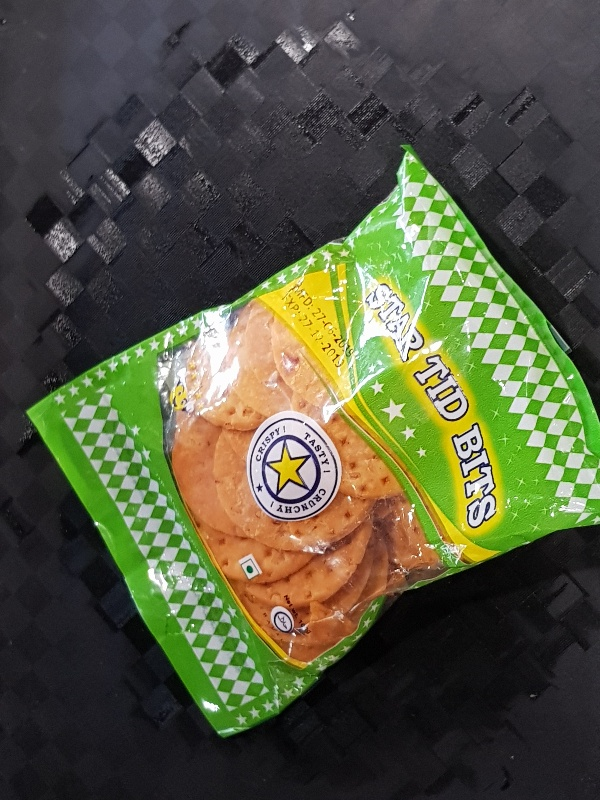Star Tidbits 'O' Ring: (26, 143, 600, 738)
